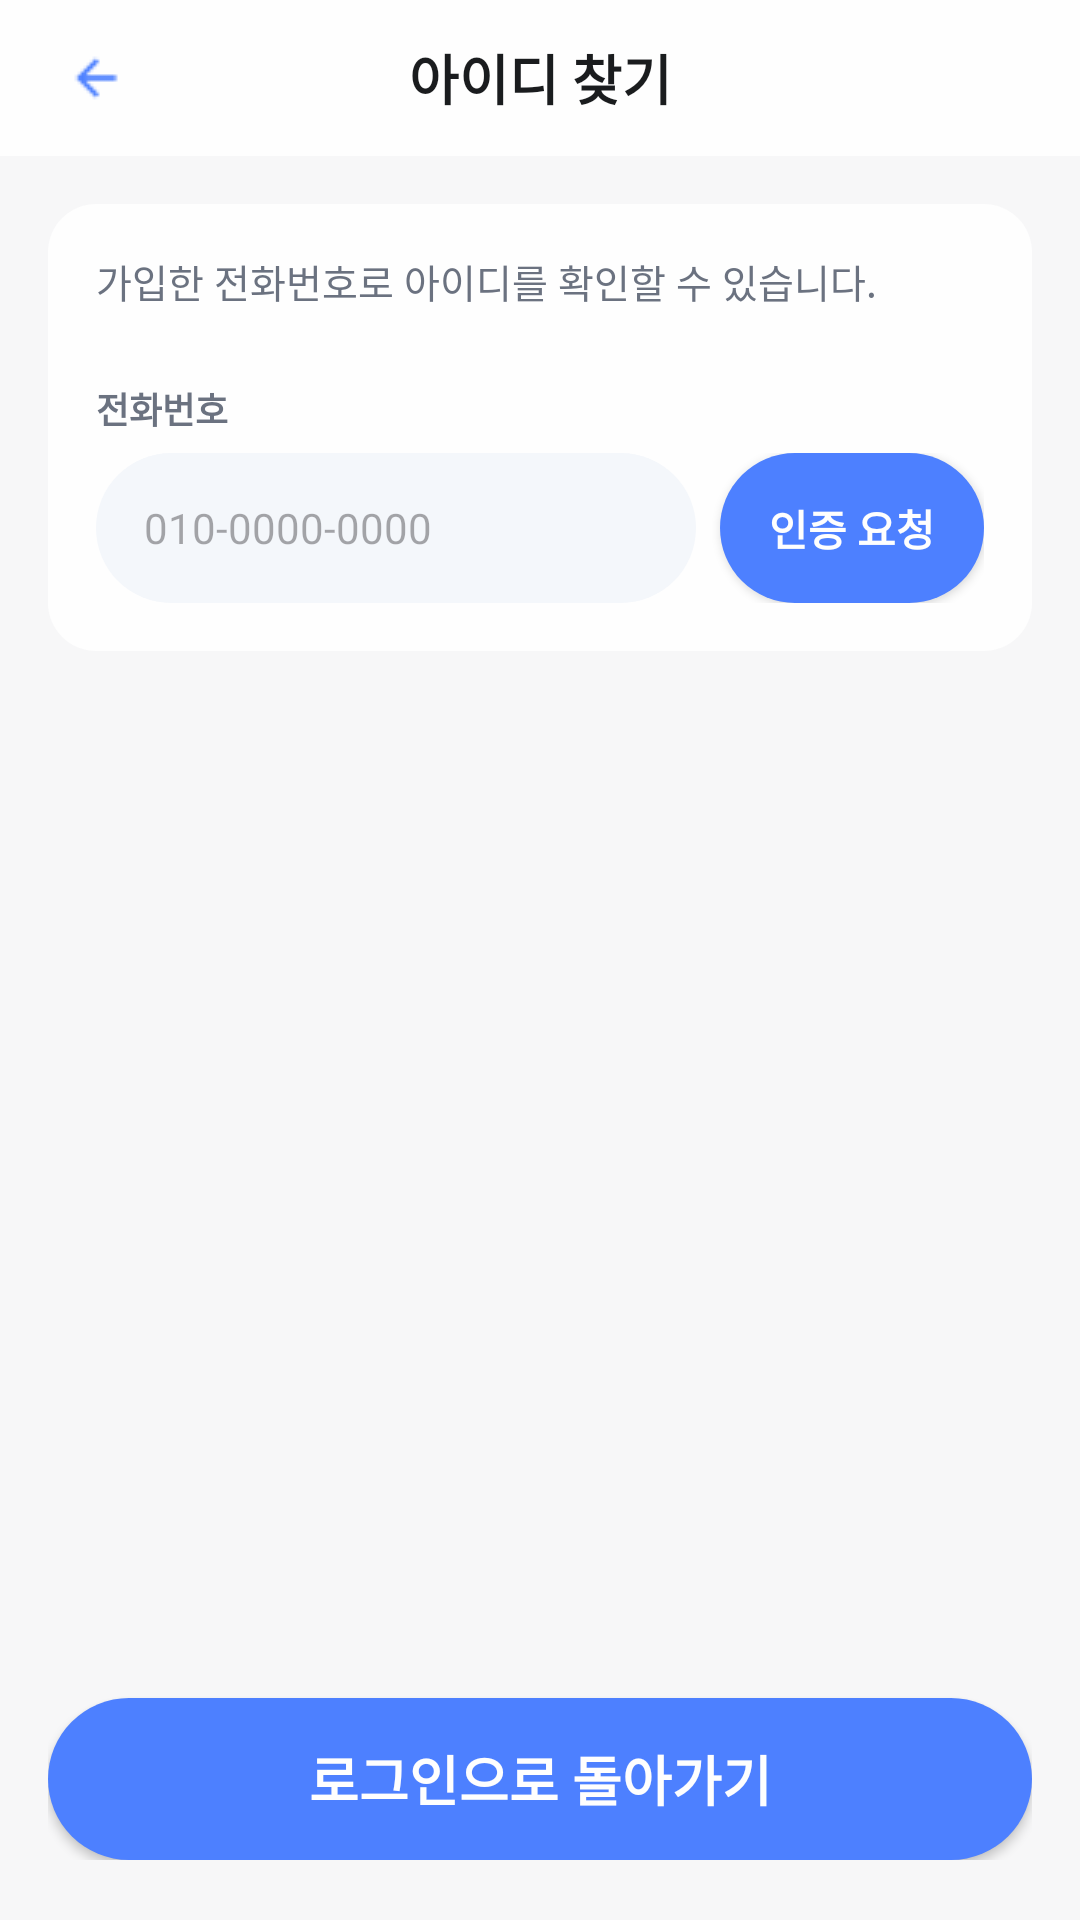

Icon bounding boxes for this 1080 × 1920 phone screenshot, format region(x1, y1, x2, y2):
뒤로가기: region(76, 58, 118, 98)
